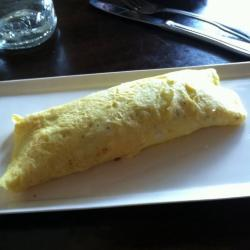omelette: (6, 71, 248, 163)
